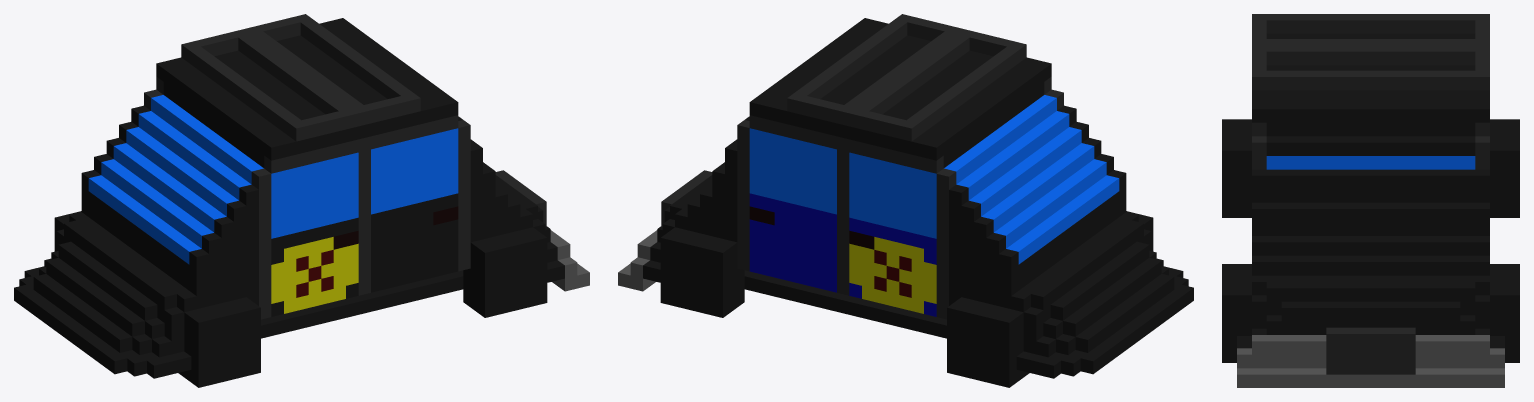
The model's file is PoliceCar.obj.
3 renders of one model, left to right at view 1: azimuth 30°, elevation 25°; view 2: azimuth 150°, elevation 25°; view 3: azimuth 270°, elevation 25°, orthographic. The views are drawn at different scales.
Parts seen in each view (by area): view 1: PoliceCar; view 2: PoliceCar; view 3: PoliceCar.
Part boxes in pixels (x1,y1,x2,y2): PoliceCar: (14,14,589,387); PoliceCar: (618,14,1193,387); PoliceCar: (1222,14,1519,387).
Bounding box in the file's own units: 37 × 17 × 20.
